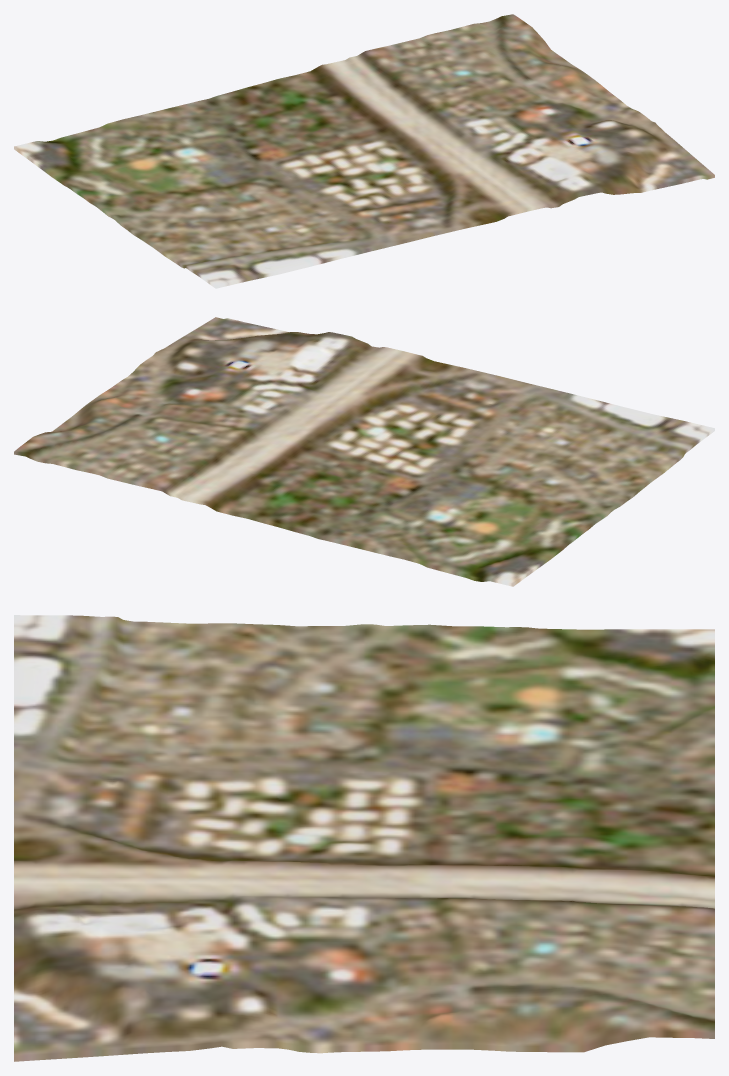
File: terrain_r2_c7_lod1.glb
3 views of the same model, one above another, from view 1: azimuth 30°, elevation 25°; view 2: azimuth 150°, elevation 25°; view 3: azimuth 270°, elevation 25° (orthographic). The views are drawn at different scales.
Visible parts, largest first — view 1: terrain_r2_c7_lod1; view 2: terrain_r2_c7_lod1; view 3: terrain_r2_c7_lod1.
Part boxes in pixels (<box>): terrain_r2_c7_lod1: <box>14,14,714,288</box>; terrain_r2_c7_lod1: <box>14,317,714,586</box>; terrain_r2_c7_lod1: <box>14,615,714,1061</box>.
Bounding box in the file's own units: 1125 × 40.65 × 787.
Materials: 1 (1 with a texture image).
